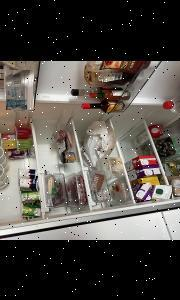Leche: (129, 164, 160, 180), (126, 153, 155, 170), (152, 184, 172, 198), (134, 183, 150, 198)
Lechuga/Endivia: (165, 159, 180, 174)
Mantequilla: (6, 68, 34, 108)
Yogur: (20, 175, 38, 190), (22, 202, 41, 216), (21, 188, 40, 202), (0, 176, 14, 194), (19, 167, 36, 178)
